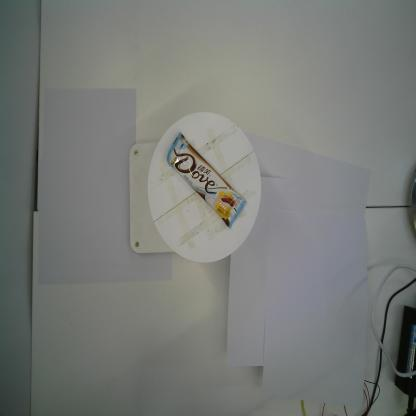Chocolate: (166, 130, 247, 230)
